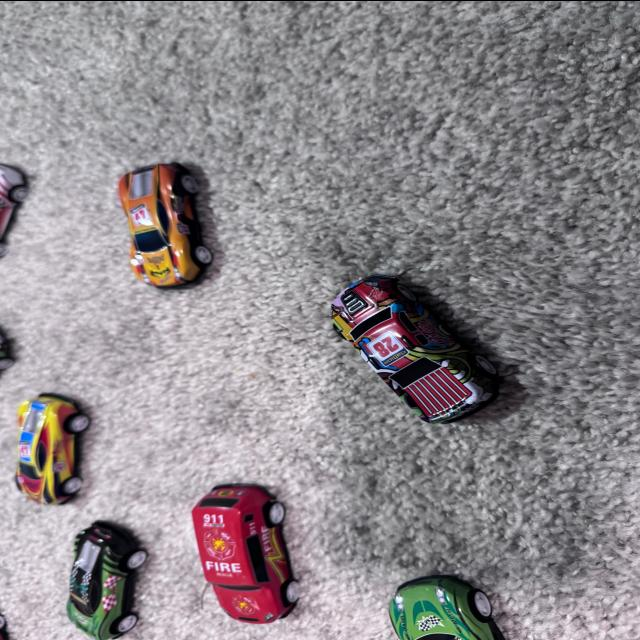Car: (292, 268, 504, 460), (50, 496, 190, 640), (100, 155, 228, 299), (178, 478, 294, 630), (384, 527, 529, 640), (0, 394, 105, 513)
